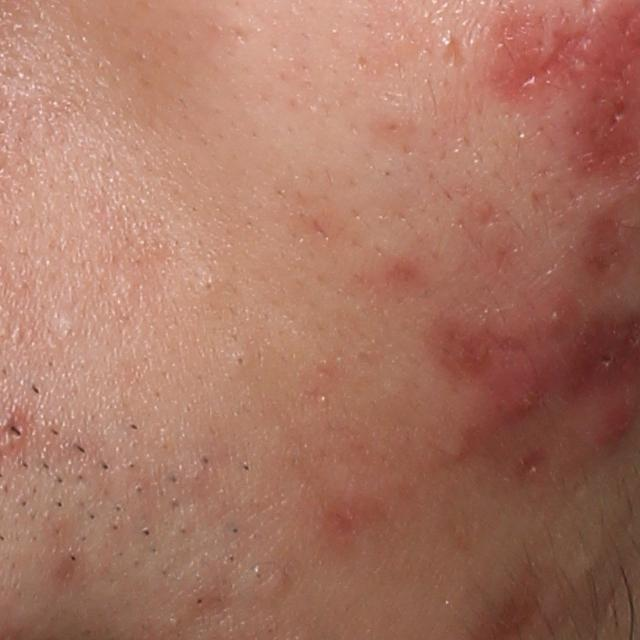atrophic_scar: (513, 28, 632, 89), (443, 38, 469, 72)
comedo: (193, 273, 225, 298), (54, 312, 81, 339), (232, 351, 251, 373)
papule: (491, 369, 546, 424), (530, 292, 584, 341), (588, 400, 637, 453), (443, 431, 478, 466)
